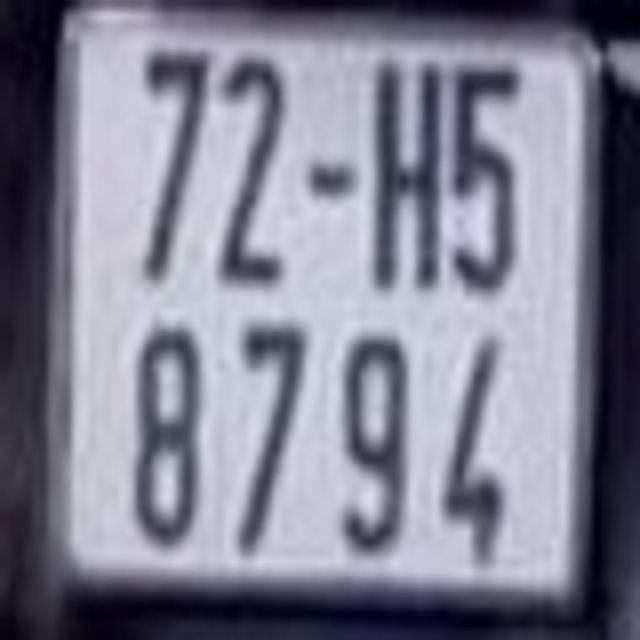2: (220, 55, 288, 283)
4: (442, 331, 507, 567)
5: (454, 61, 524, 286)
7: (138, 48, 209, 277), (234, 320, 303, 555)
8: (136, 323, 203, 552)
9: (343, 336, 411, 554)
H: (374, 56, 445, 291)
